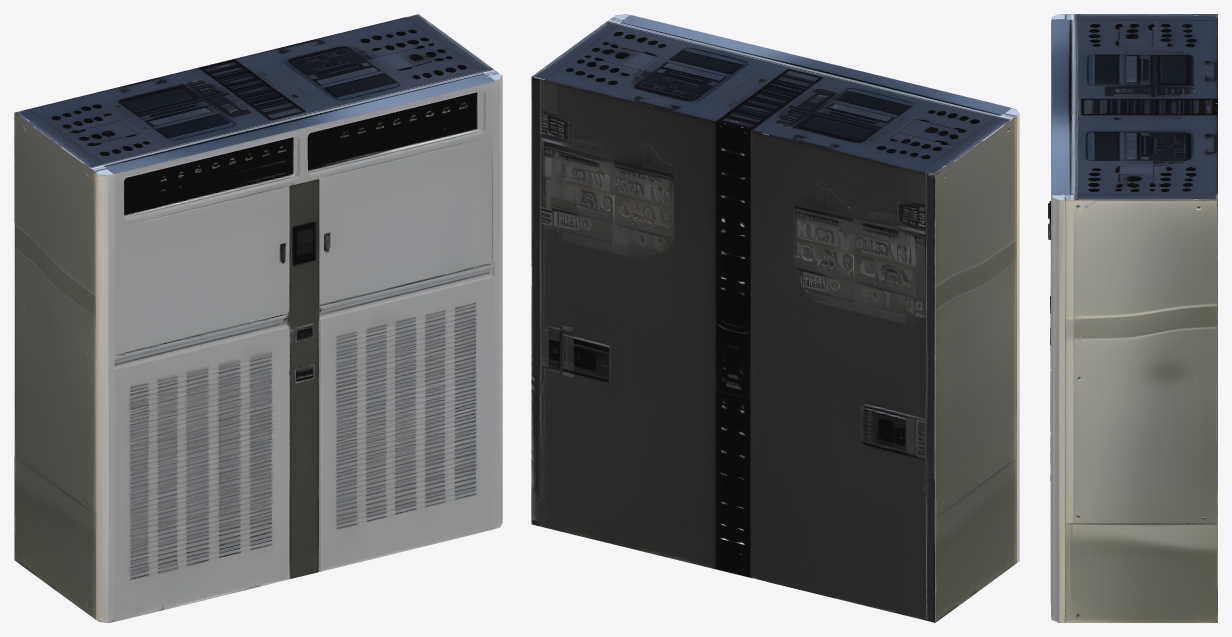
File: ClimaticChambershaded.glb
The picture shows the model from 3 angles, left to right: view 1: azimuth 30°, elevation 25°; view 2: azimuth 150°, elevation 25°; view 3: azimuth 270°, elevation 25°; orthographic projection. The views are drawn at different scales.
Visible parts, largest first — view 1: model; view 2: model; view 3: model.
Boxes of the visible parts, left/top/right/bottom form: model: left=14, top=14, right=502, bottom=622; model: left=531, top=14, right=1019, bottom=622; model: left=1048, top=14, right=1217, bottom=622.
Size of the model in its own units: 1.68 by 1.78 by 0.6475.
Materials: 1 (1 with a texture image).
